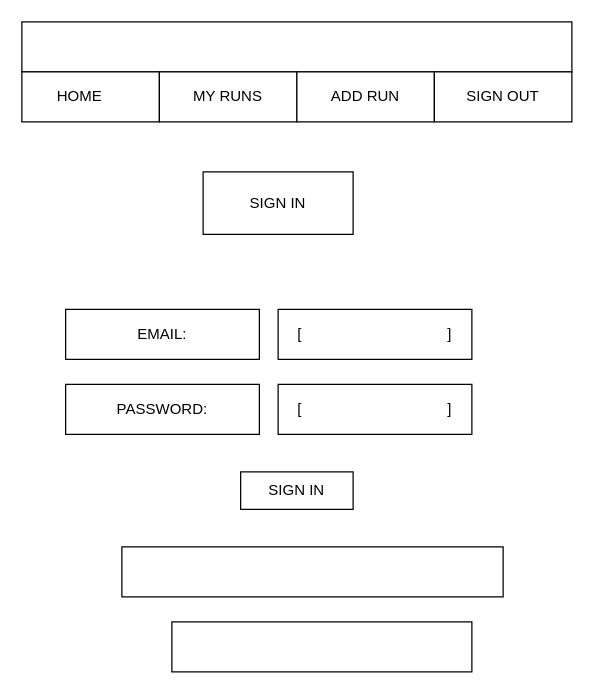
Some shapes in this 594 by 694 pixel diagram are drawn without their labels. The shapes that lost their labels are listed below. From the top down, each one's centre as x and y in pixels, then its label:
At point (296, 46): "RUNNING TRACKER".
At point (312, 571): "DON'T HAVE AN ACCOUNT?".
At point (321, 646): "SIGN UP HERE".
